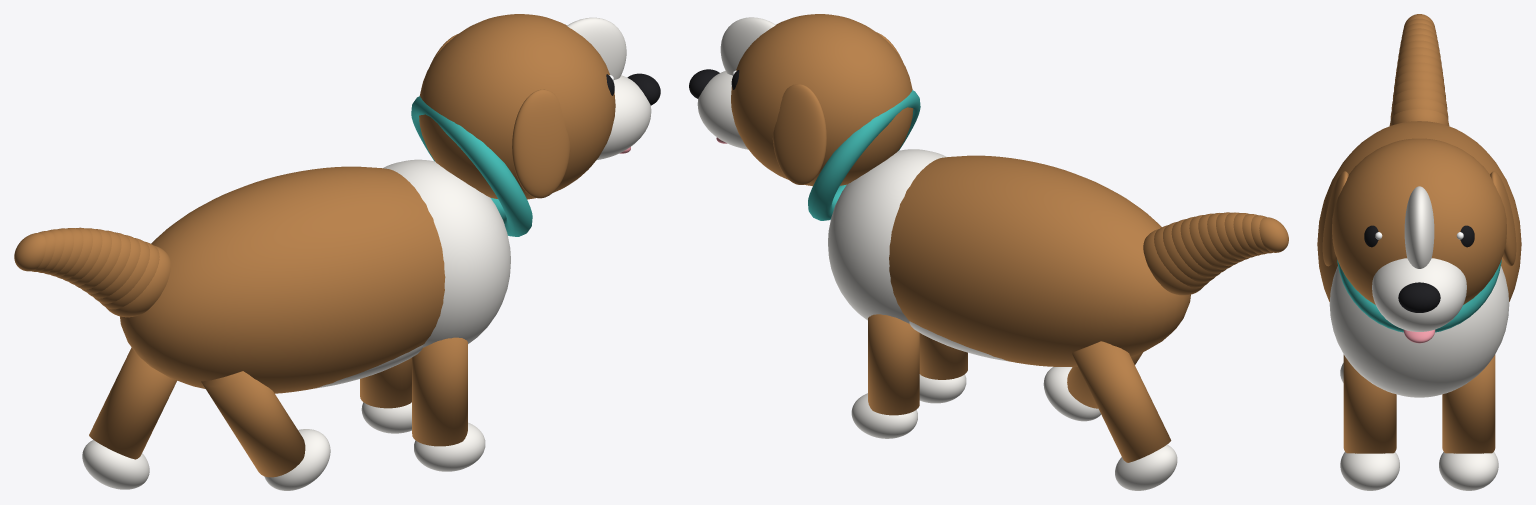
Rendered from boxer.glb.
The picture shows the model from 3 angles, left to right: view 1: azimuth 30°, elevation 25°; view 2: azimuth 150°, elevation 25°; view 3: azimuth 270°, elevation 25°; orthographic projection. The views are drawn at different scales.
Visible parts, largest first — view 1: Body, Head, Chest, Leg3, Leg1, Leg2, Ear-1, Collar, Muzzle, Paw2, Leg0, Paw1 (+9 smaller); view 2: Body, Head, Chest, Leg2, Leg0, Ear1, Collar, Muzzle, Paw2, Leg1, Paw0, Blaze (+8 smaller); view 3: Head, Chest, Body, Muzzle, Leg0, Leg1, Blaze, Paw0, Paw1, Collar, Nose, Ear1 (+15 smaller).
Part boxes in pixels (<box>): Body: <box>120,166,445,393</box>; Head: <box>419,14,615,199</box>; Chest: <box>383,159,510,347</box>; Leg3: <box>201,371,305,477</box>; Leg1: <box>412,337,467,446</box>; Leg2: <box>89,347,176,459</box>; Ear-1: <box>512,89,570,198</box>; Collar: <box>411,96,532,236</box>; Muzzle: <box>596,75,651,160</box>; Paw2: <box>82,440,149,489</box>; Leg0: <box>360,357,411,408</box>; Paw1: <box>414,422,485,471</box>; Body: <box>889,155,1190,366</box>; Head: <box>731,14,913,186</box>; Chest: <box>828,149,946,323</box>; Leg2: <box>1072,341,1171,462</box>; Leg0: <box>868,314,919,415</box>; Ear1: <box>772,84,826,184</box>; Collar: <box>808,90,920,220</box>; Muzzle: <box>697,71,748,149</box>; Paw2: <box>1115,444,1177,490</box>; Leg1: <box>919,333,967,379</box>; Paw0: <box>851,393,917,438</box>; Blaze: <box>720,17,775,74</box>; Head: <box>1332,138,1506,304</box>; Chest: <box>1329,266,1509,397</box>; Body: <box>1317,121,1521,301</box>; Muzzle: <box>1372,258,1466,331</box>; Leg0: <box>1442,354,1495,453</box>; Leg1: <box>1343,354,1396,453</box>; Blaze: <box>1404,186,1434,268</box>; Paw0: <box>1439,452,1498,490</box>; Paw1: <box>1340,452,1399,490</box>; Collar: <box>1337,260,1501,332</box>; Nose: <box>1398,282,1440,312</box>; Ear1: <box>1490,171,1516,266</box>.
Bounding box in the file's own units: 1.99 × 1.2 × 0.58.
